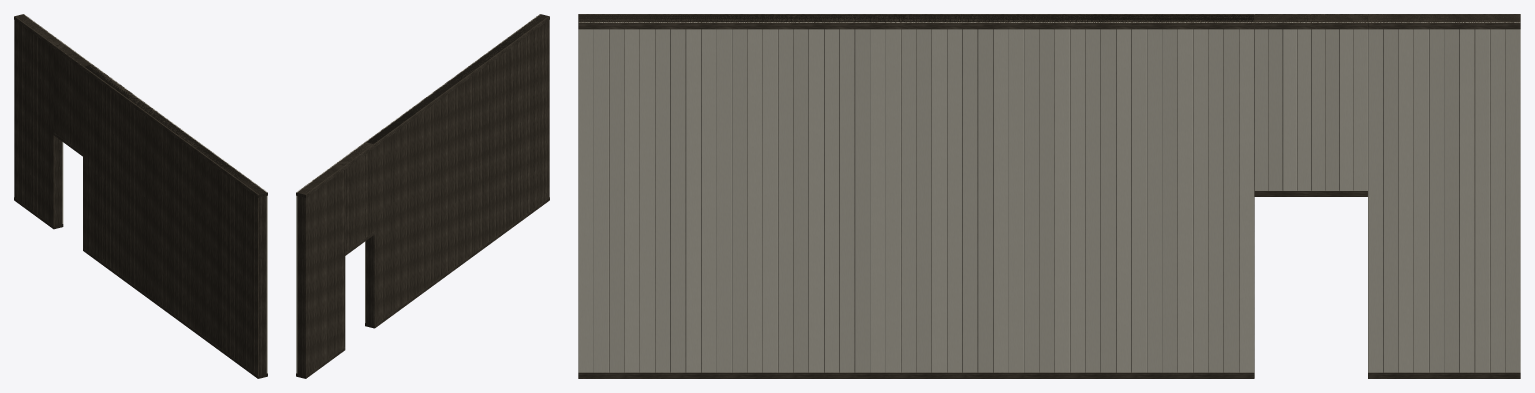
3 views of the same model, side by side, from view 1: azimuth 30°, elevation 25°; view 2: azimuth 150°, elevation 25°; view 3: azimuth 270°, elevation 25° (orthographic). The views are drawn at different scales.
Parts seen in each view (by area): view 1: Mesh_dark, Mesh_warm; view 2: Mesh_dark, Mesh_warm; view 3: Mesh_warm, Mesh_dark.
Boxes of the visible parts, box(x1,y1,x2,y2) form: Mesh_dark: box(14, 14, 267, 378); Mesh_warm: box(24, 14, 267, 373); Mesh_dark: box(296, 14, 549, 378); Mesh_warm: box(296, 14, 540, 373); Mesh_warm: box(578, 22, 1520, 372); Mesh_dark: box(578, 14, 1520, 378).
Bounding box in the file's own units: 0.254 × 4.5 × 10.8.
2 materials, 2 textured.
